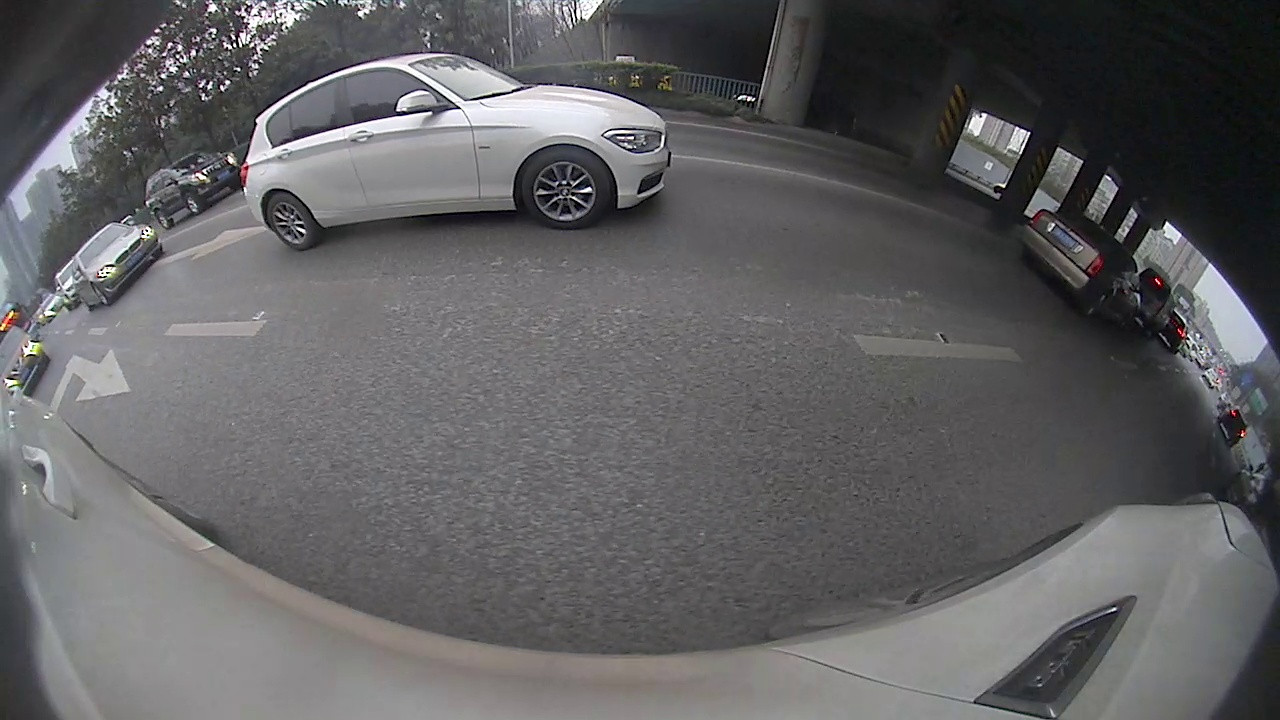car: (239, 50, 675, 252), (1019, 206, 1144, 332), (67, 220, 164, 311), (141, 149, 241, 229), (2, 323, 52, 397)
front: (524, 147, 614, 232), (186, 191, 203, 217), (94, 283, 111, 309)
rear: (267, 191, 321, 251), (156, 207, 176, 230)
